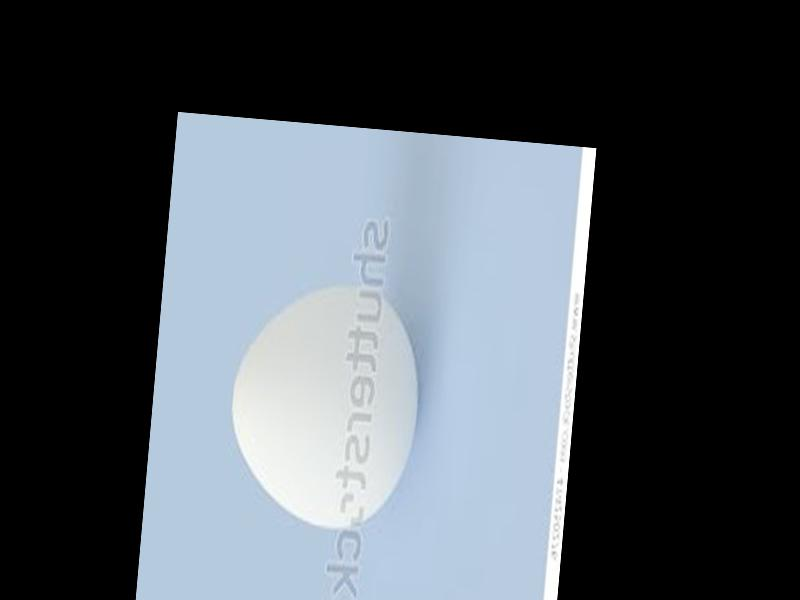Eggs: (222, 276, 429, 536)
